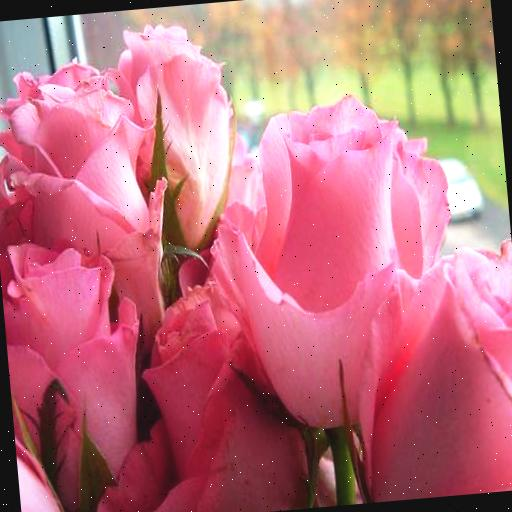rose: (203, 82, 468, 444), (84, 271, 300, 512), (0, 233, 151, 512), (0, 45, 168, 273), (112, 18, 244, 252)
